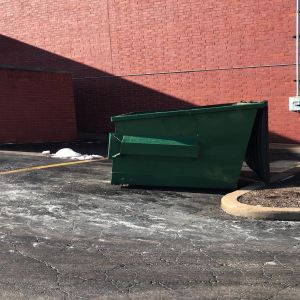Dumpster: (105, 99, 277, 195)
